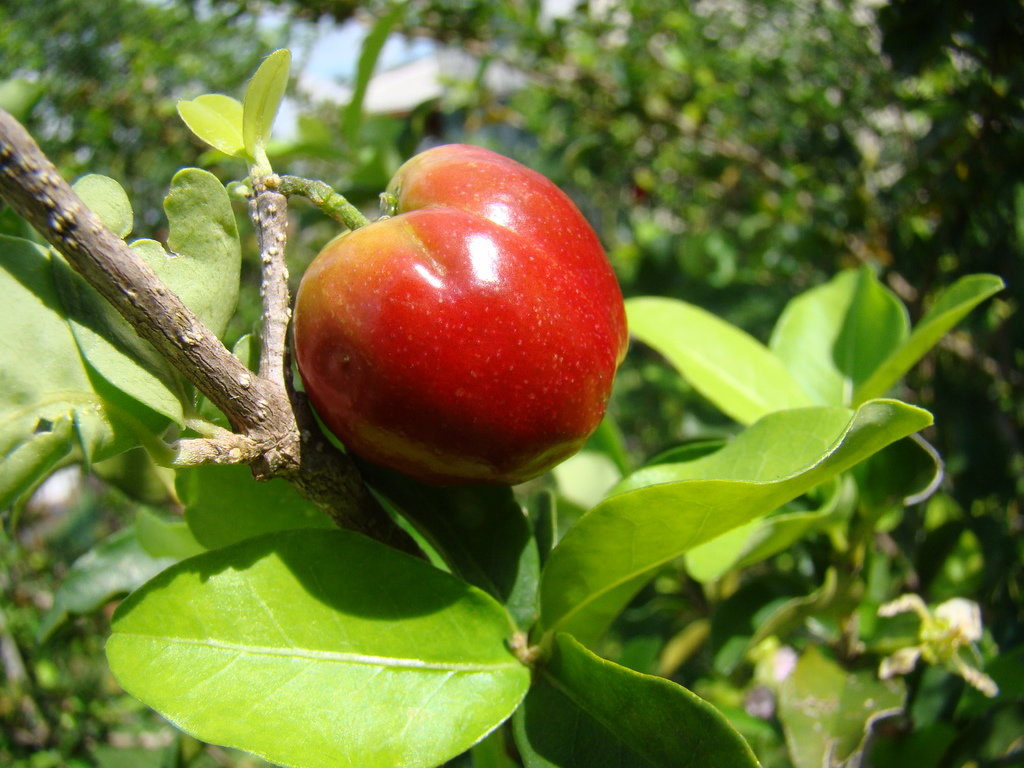Apple: (280, 144, 618, 499)
